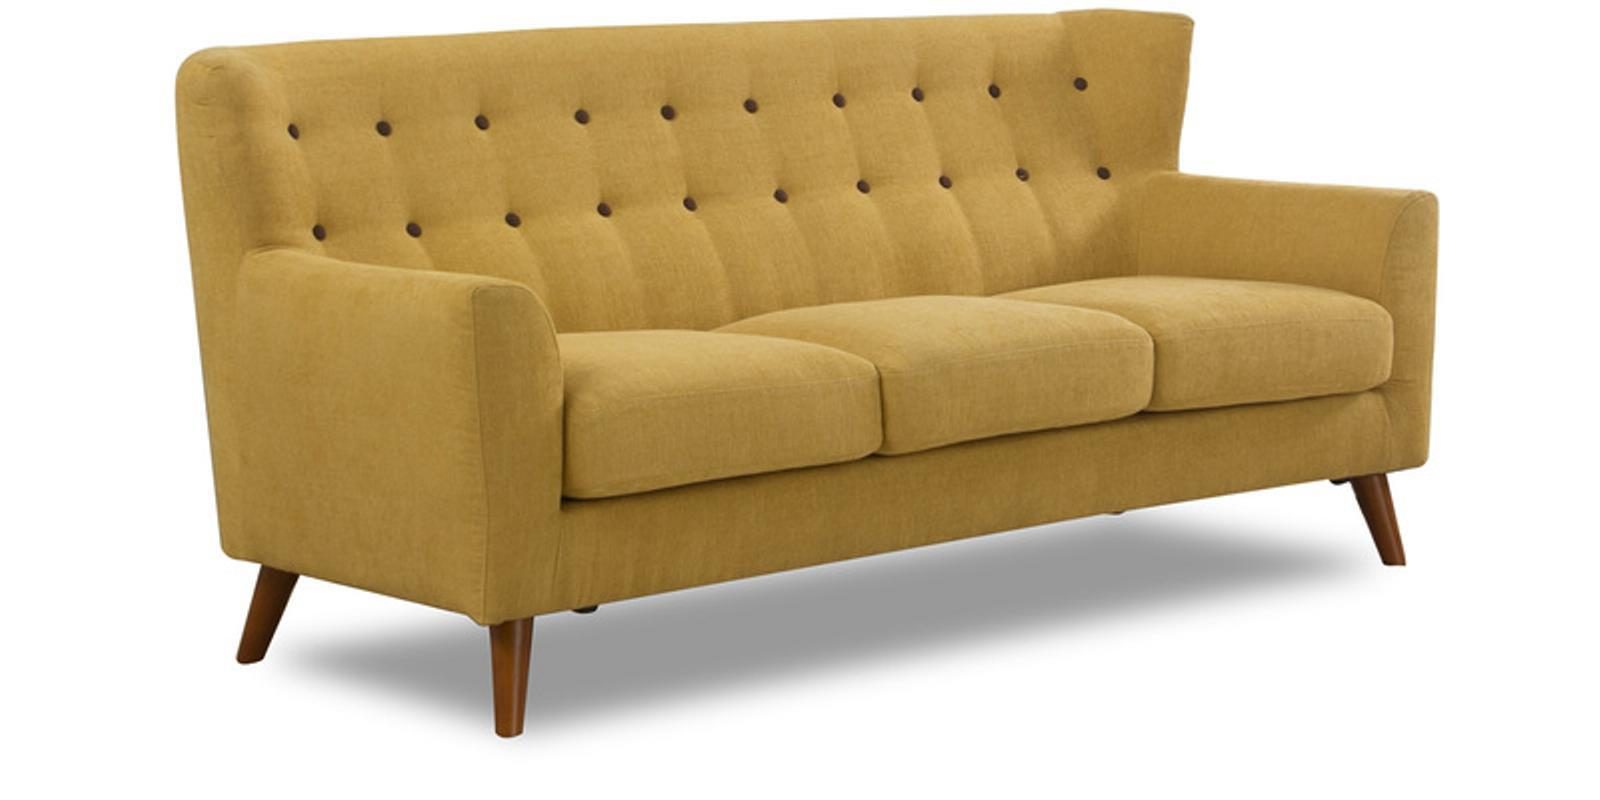Havana Three Seater Sofa in Ochre Colour by CasaCraft: (161, 10, 1492, 743)
